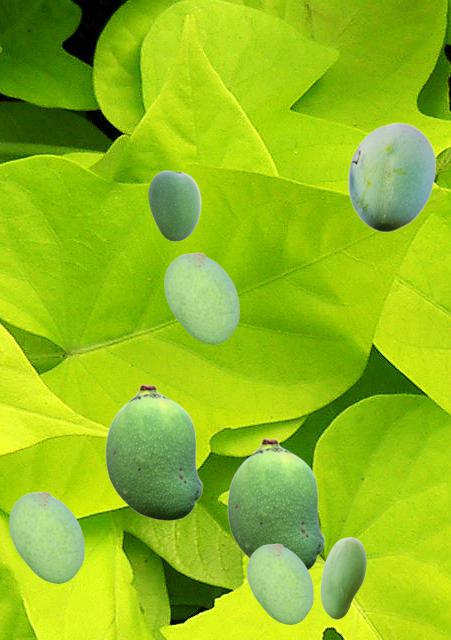green_mango: (105, 384, 202, 520), (227, 438, 324, 570), (347, 122, 435, 231), (9, 491, 83, 582), (164, 252, 238, 343), (247, 543, 312, 623), (320, 537, 365, 618), (148, 170, 200, 240)
